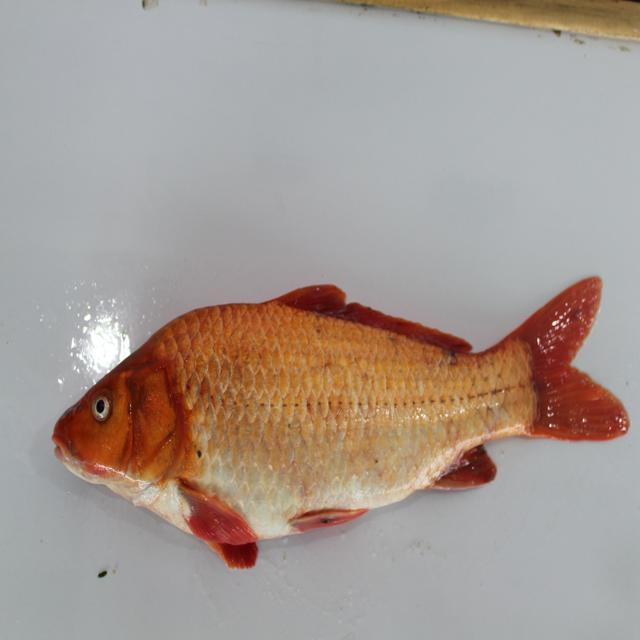Gold-Fish: (0, 238, 630, 578)
